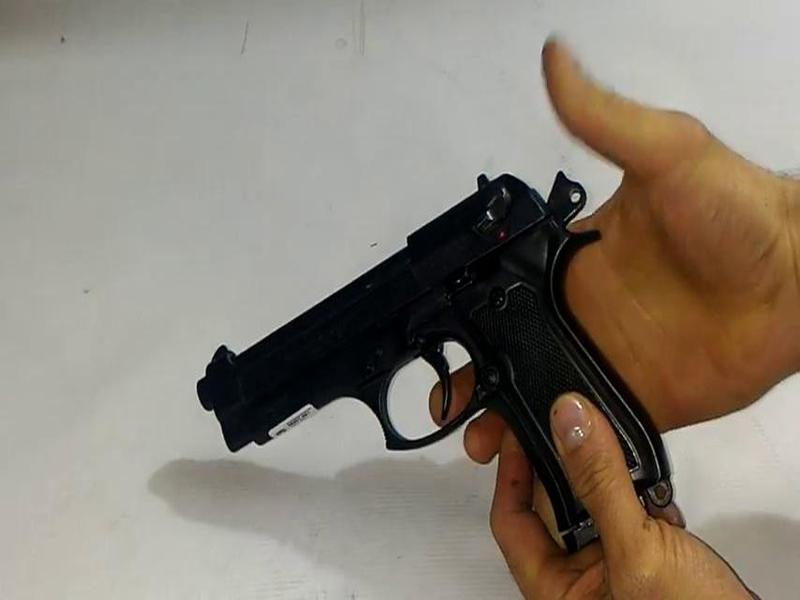Pistola: (177, 136, 680, 592)
